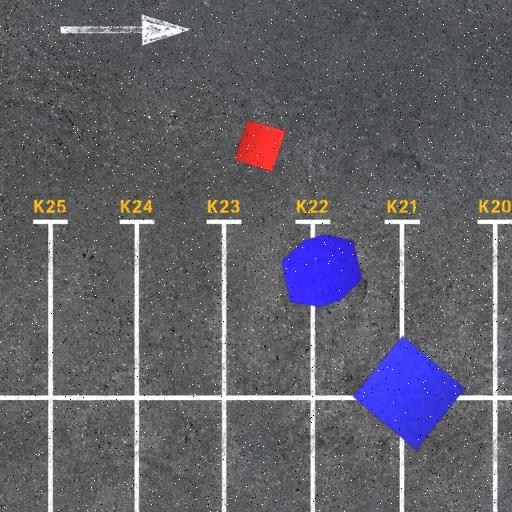BLUE_SQUARE: (352, 335, 466, 451)
RED_SQUARE: (234, 119, 286, 173)
